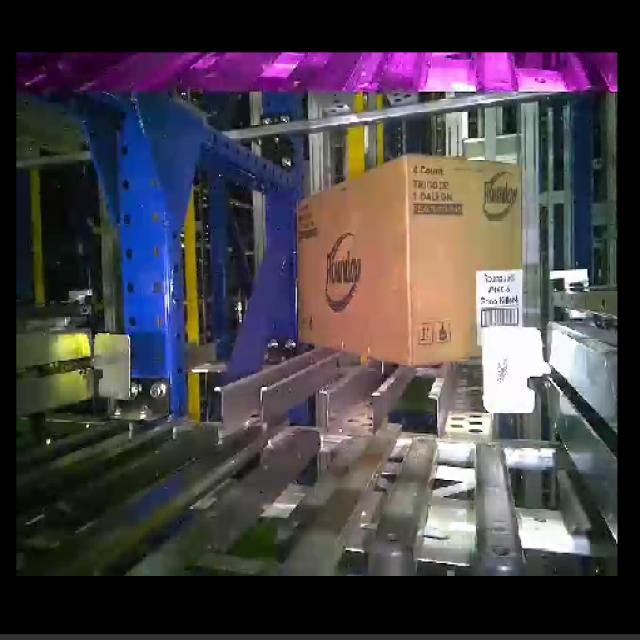box: (295, 153, 414, 368)
